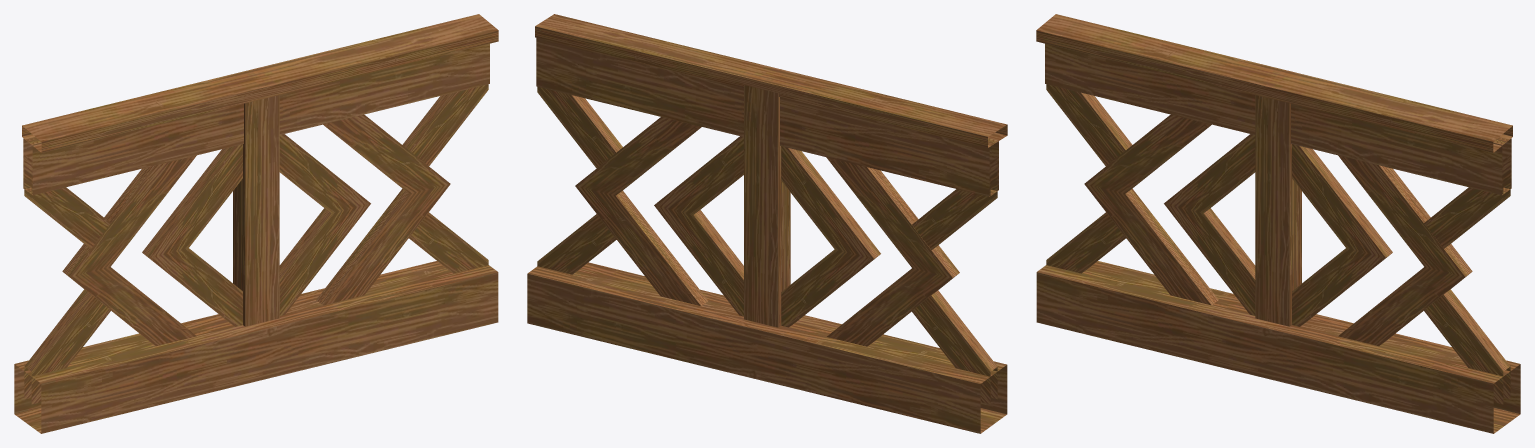
Rendered from Balcony_Cross_Straight.glb.
The picture shows the model from 3 angles, left to right: view 1: azimuth 30°, elevation 25°; view 2: azimuth 150°, elevation 25°; view 3: azimuth 330°, elevation 25°; orthographic projection.
Parts seen in each view (by area): view 1: Balcony_Cross_Straight; view 2: Balcony_Cross_Straight; view 3: Balcony_Cross_Straight.
Boxes of the visible parts, left/top/right/bottom form: Balcony_Cross_Straight: left=14, top=14, right=498, bottom=433; Balcony_Cross_Straight: left=527, top=14, right=1007, bottom=433; Balcony_Cross_Straight: left=1036, top=14, right=1520, bottom=433.
Bounding box in the file's own units: 2 × 1.23 × 0.2063.
1 material, 1 textured.
